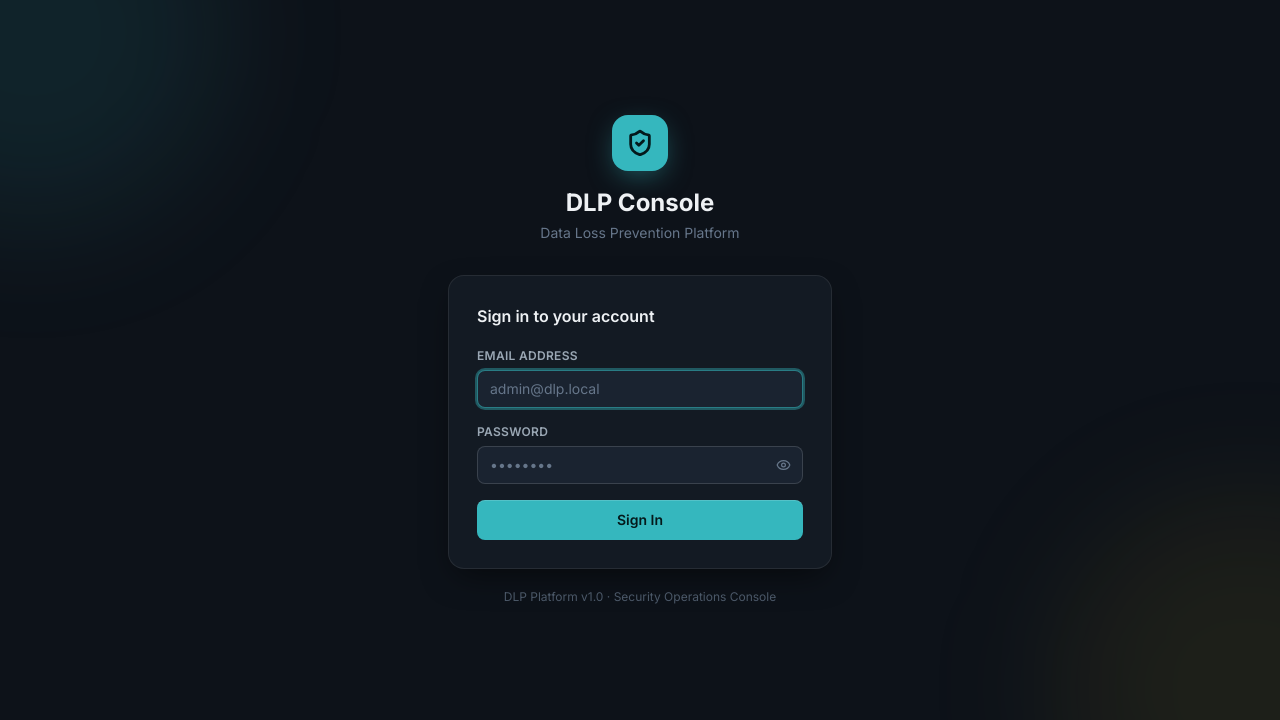
Test: Login page › names the real problem when the backend is unreachable
This screenshot has width=1280, height=720.
Type "a@b.c" into the field with placeholder "admin@dlp.local" at (640, 389), box top-left (477, 370), bottom-right (803, 408)
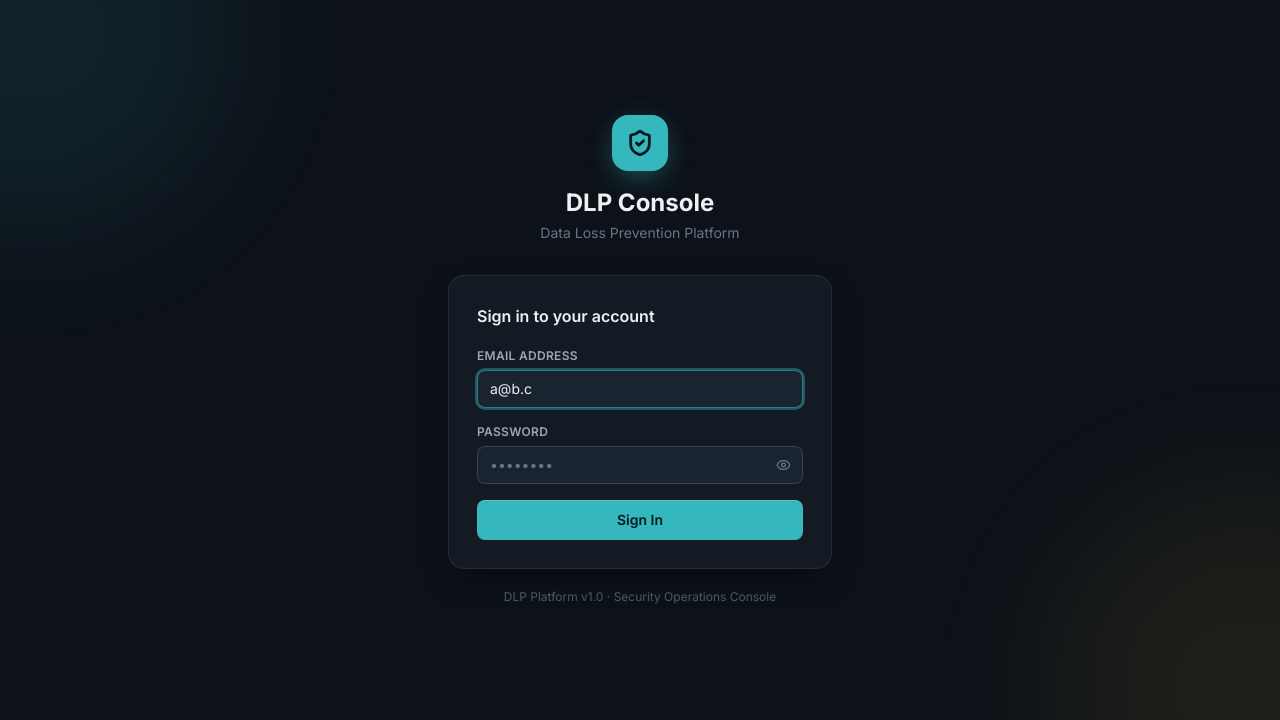
Type "pw" into the password field with placeholder "••••••••" at (640, 465), box top-left (477, 446), bottom-right (803, 484)
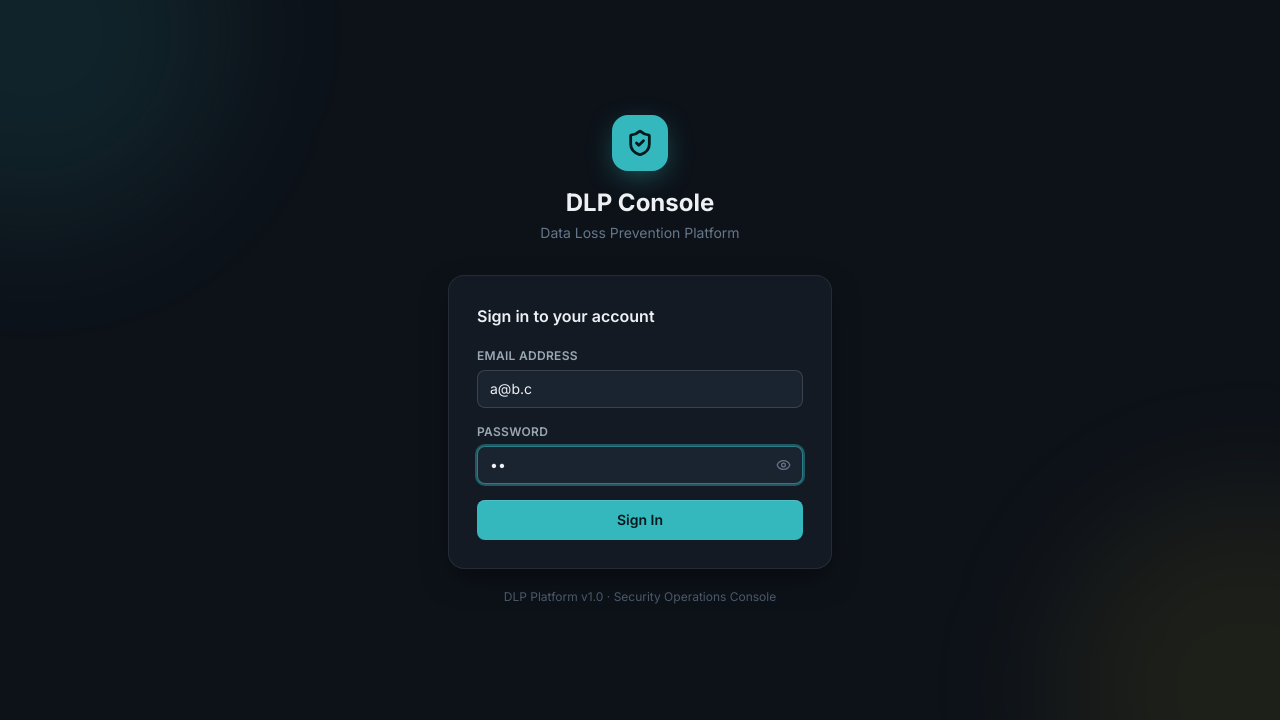
Click the button "Sign In" at (640, 520), box top-left (477, 500), bottom-right (803, 540)
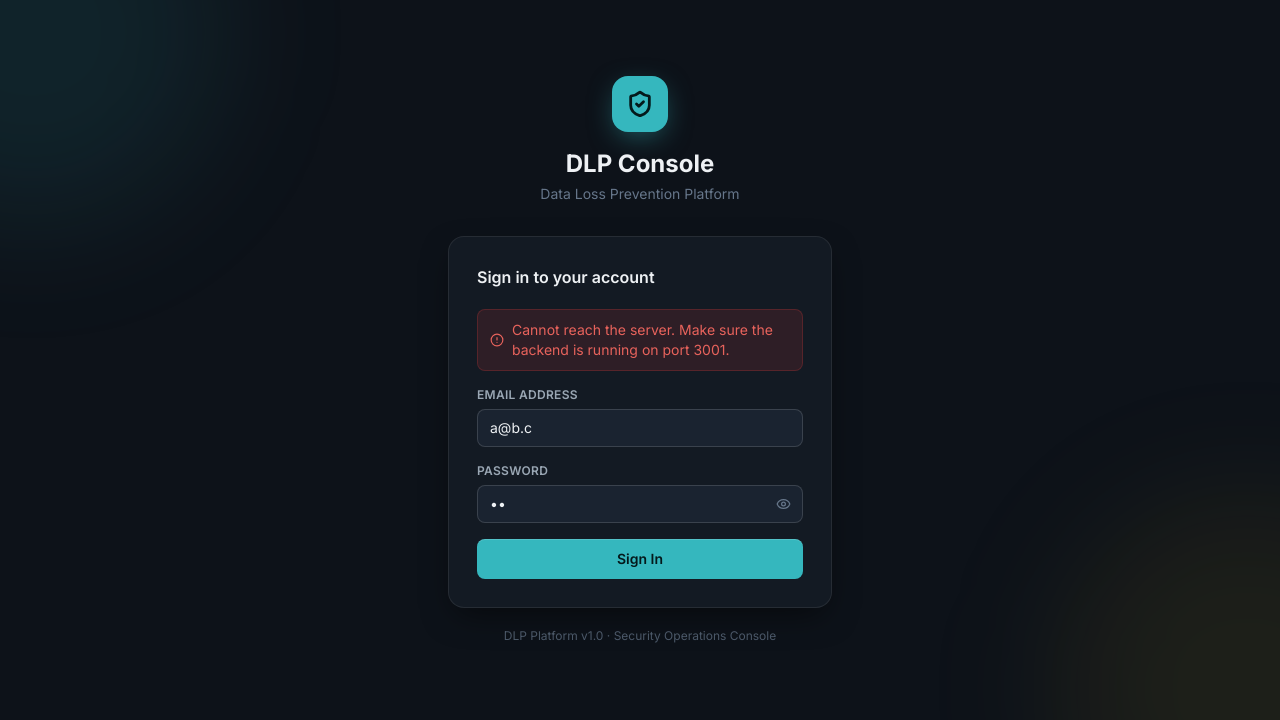
Check: the text "Cannot reach the server" is shown, box top-left (512, 321), bottom-right (773, 358)
